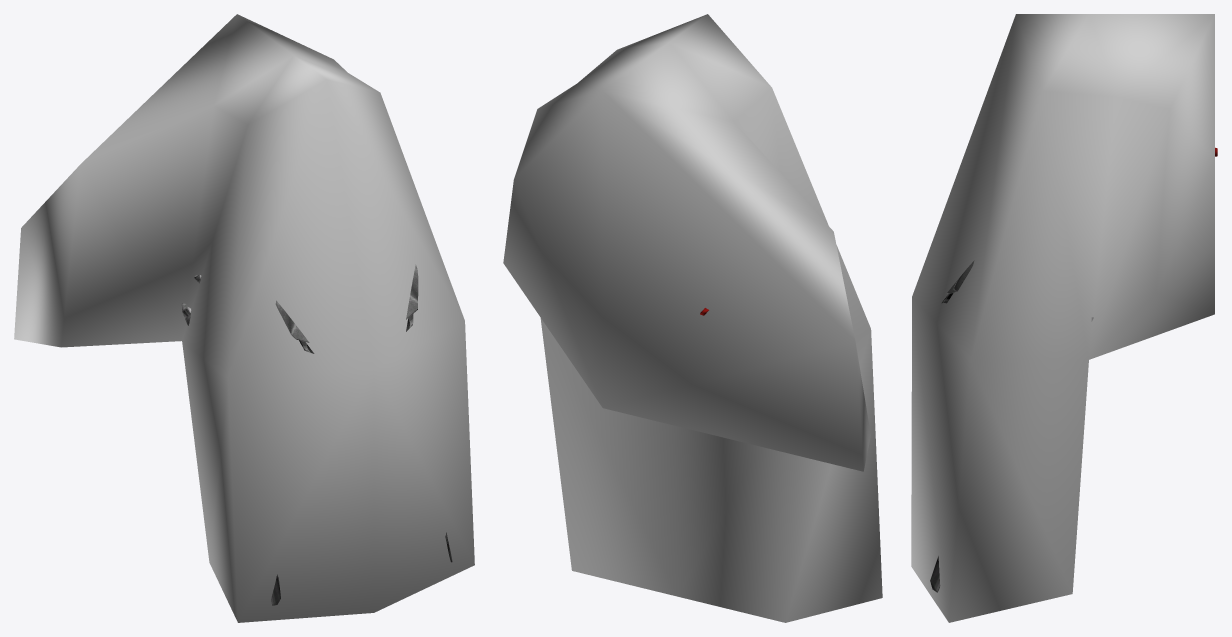
File: transport_ship_without_wing.fbx
The picture shows the model from 3 angles, left to right: view 1: azimuth 30°, elevation 25°; view 2: azimuth 150°, elevation 25°; view 3: azimuth 270°, elevation 25°; orthographic projection. The views are drawn at different scales.
Parts seen in each view (by area): view 1: 0000_transport_ship_without_wing, 0001_transport_ship_without_wing; view 2: 0000_transport_ship_without_wing; view 3: 0000_transport_ship_without_wing, 0001_transport_ship_without_wing.
Boxes of the visible parts, left/top/right/bottom form: 0000_transport_ship_without_wing: left=14, top=14, right=474, bottom=622; 0001_transport_ship_without_wing: left=181, top=264, right=452, bottom=605; 0000_transport_ship_without_wing: left=503, top=14, right=882, bottom=622; 0000_transport_ship_without_wing: left=911, top=14, right=1214, bottom=622; 0001_transport_ship_without_wing: left=930, top=147, right=1217, bottom=592.
Size of the model in its own units: 27.29 by 38.16 by 19.18.
